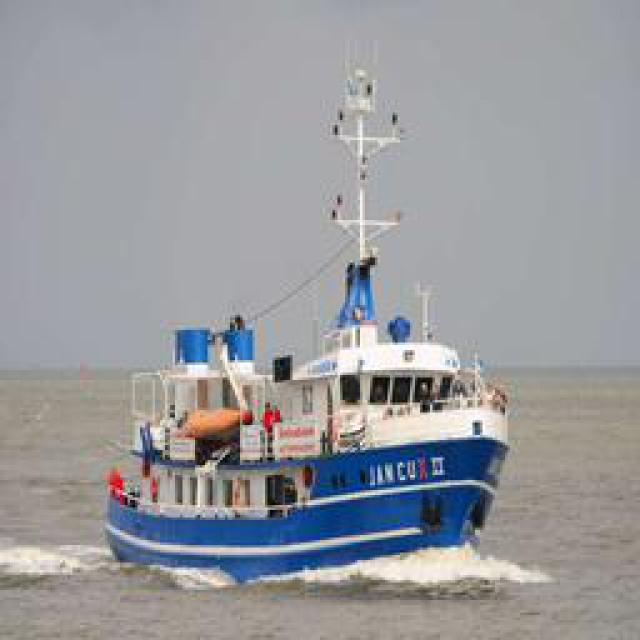Ship: (109, 177, 519, 570)
